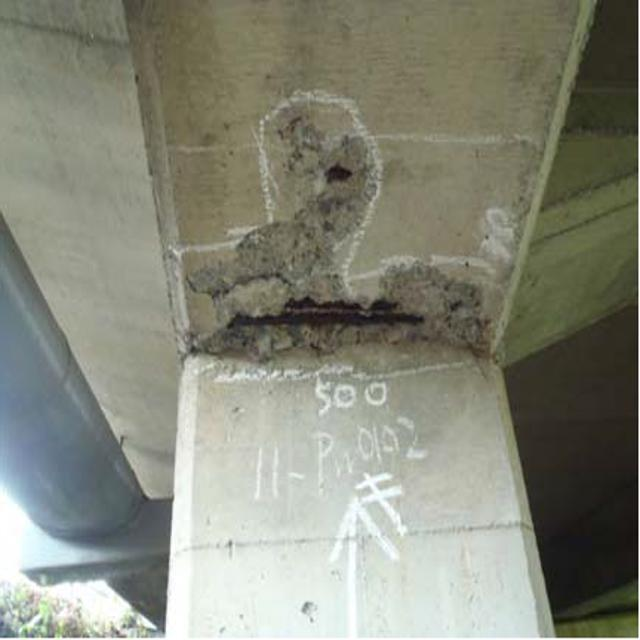spalling: (167, 90, 499, 377)
